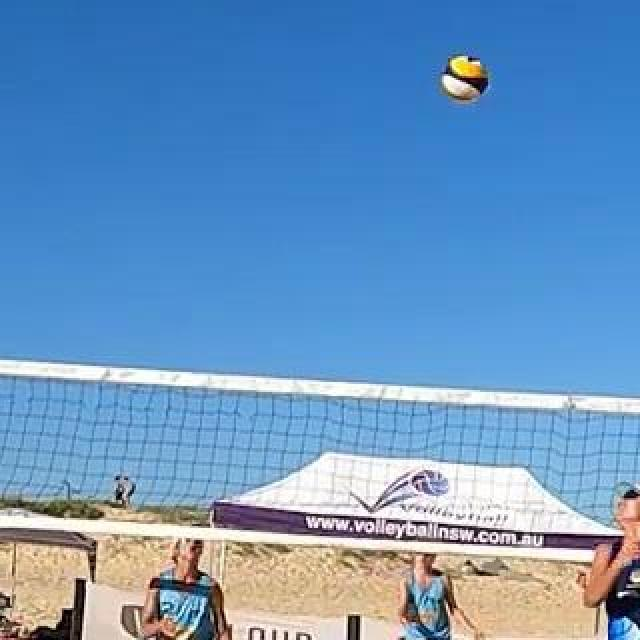volleyball: (446, 57, 488, 99)
